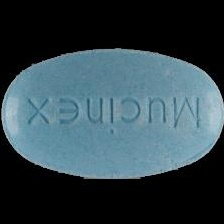68084-572: (0, 0, 224, 224)
